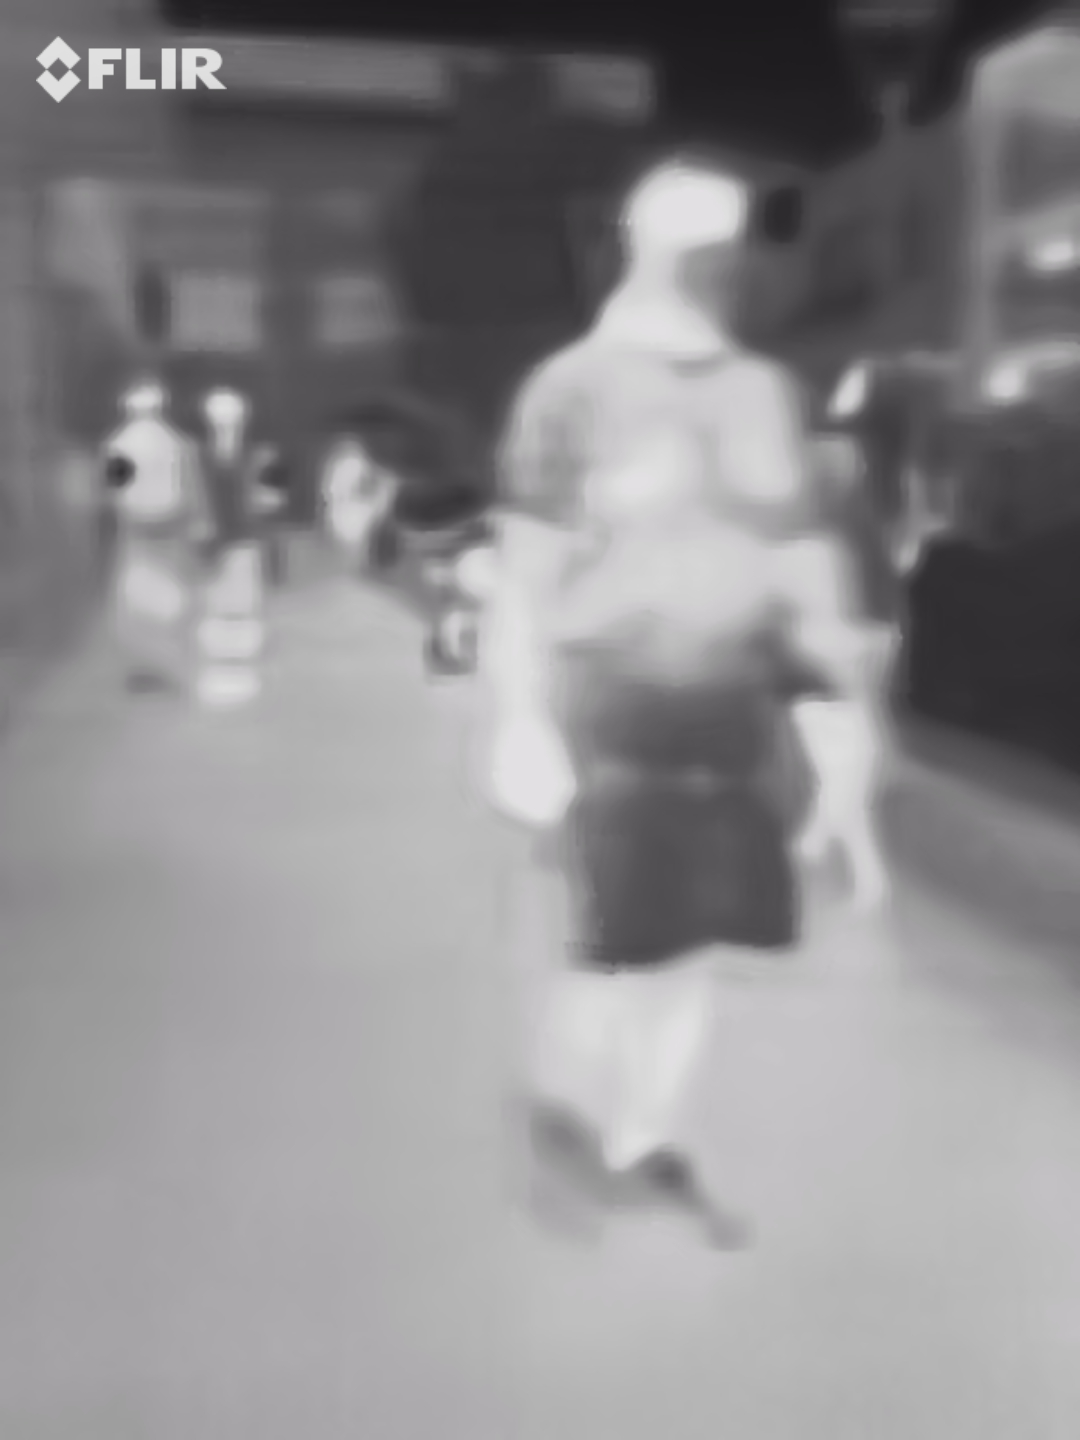head: (621, 153, 748, 330)
